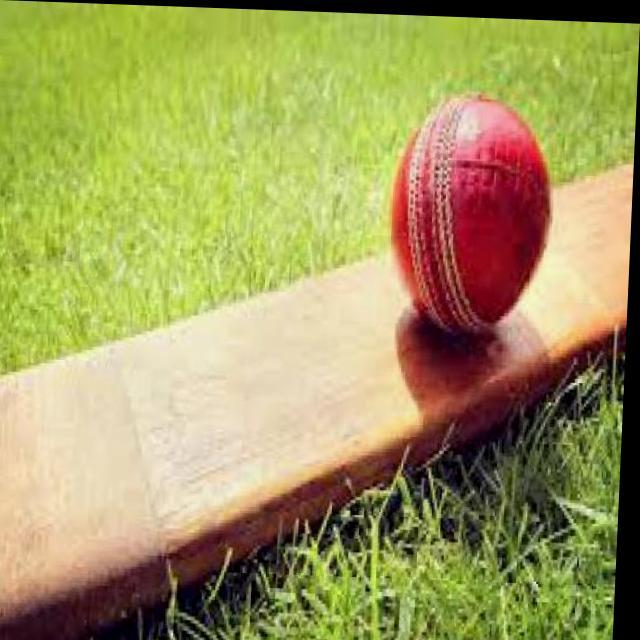-: (378, 96, 549, 347)
